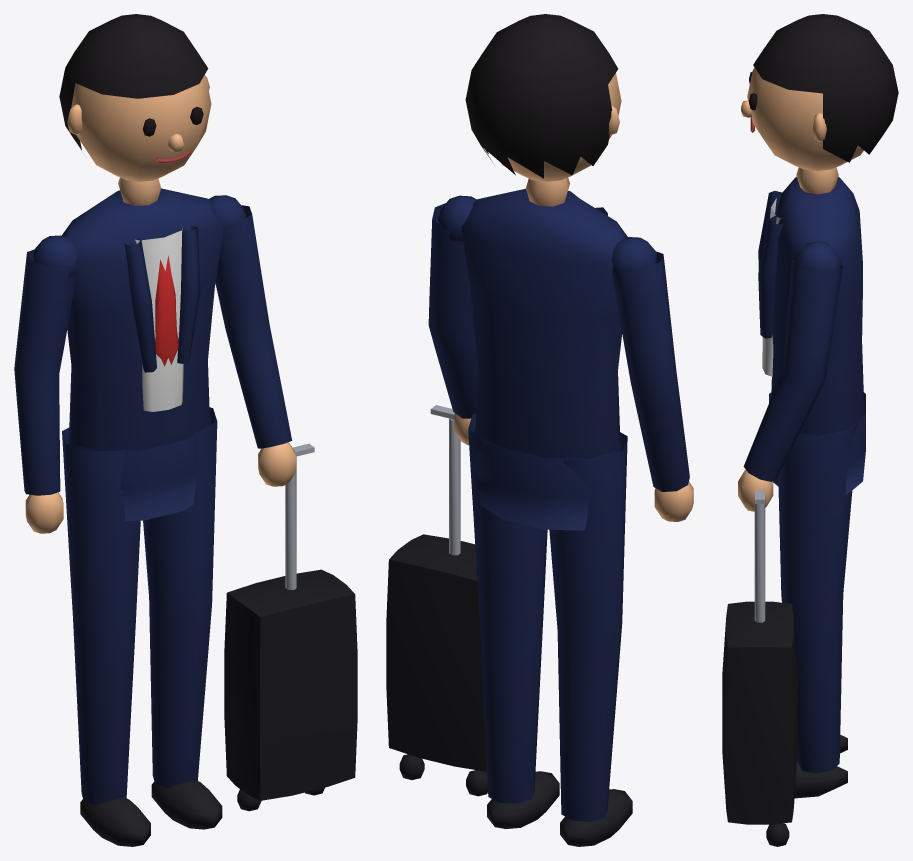
File: Guest_BusinessMan.obj
3 views of the same model, side by side, from view 1: azimuth 30°, elevation 25°; view 2: azimuth 150°, elevation 25°; view 3: azimuth 270°, elevation 25° (orthographic). The views are drawn at different scales.
Visible parts, largest first — view 1: Torso, Prop, LegR, LegL, Head, ArmR, ArmL; view 2: Torso, Prop, LegR, Head, LegL, ArmR, ArmL; view 3: LegL, Head, Prop, Torso, ArmL.
Part boxes in pixels (x1,y1,x2,y2): Torso: (62,177,223,520); Prop: (224,443,357,811); LegR: (62,427,150,846); LegL: (143,407,222,829); Head: (59,14,211,181); ArmR: (14,235,77,533); ArmL: (209,195,296,486); Torso: (461,177,627,530); Prop: (386,405,487,796); LegR: (549,432,632,846); Head: (465,14,621,181); LegL: (468,413,559,828); ArmR: (611,237,693,521); ArmL: (428,195,477,445); LegL: (778,422,858,798); Head: (741,14,898,170); Prop: (722,489,797,846); Torso: (758,167,865,495); ArmL: (738,241,842,511).
Bounding box in the file's own units: 0.7605 × 1.93 × 0.4069.
1 material, 1 textured.
